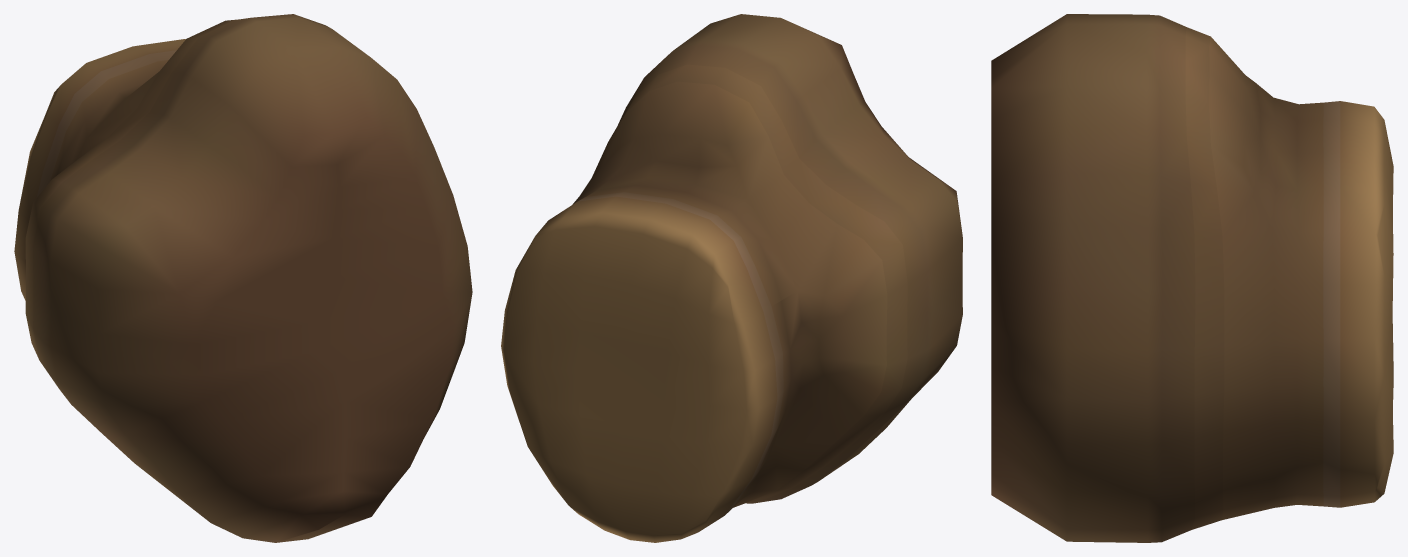
Rendered from SandStoneMesaMedium.003.glb.
3 renders of one model, left to right at view 1: azimuth 30°, elevation 25°; view 2: azimuth 150°, elevation 25°; view 3: azimuth 270°, elevation 25°, orthographic. The views are drawn at different scales.
Visible parts, largest first — view 1: SandStoneMesaMedium.003; view 2: SandStoneMesaMedium.003; view 3: SandStoneMesaMedium.003.
Part boxes in pixels (box(x1,y1,x2,y2)): SandStoneMesaMedium.003: box(14, 14, 472, 542); SandStoneMesaMedium.003: box(501, 14, 962, 542); SandStoneMesaMedium.003: box(991, 14, 1393, 542).
Bounding box in the file's own units: 3341 × 4107 × 3015.
